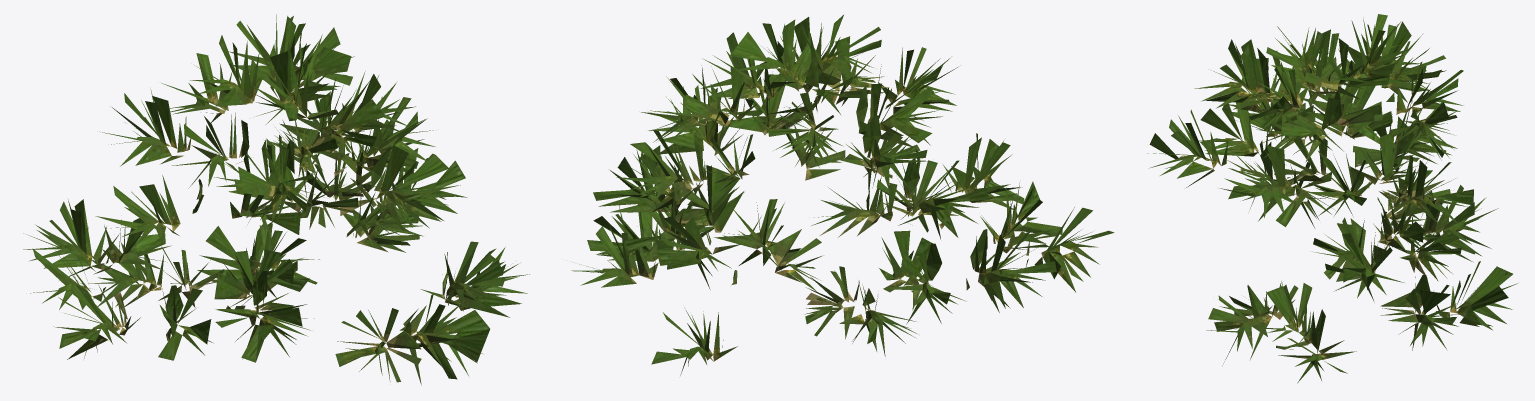
Rendered from leaf_wi.glb.
3 renders of one model, left to right at view 1: azimuth 30°, elevation 25°; view 2: azimuth 150°, elevation 25°; view 3: azimuth 270°, elevation 25°, orthographic. The views are drawn at different scales.
Parts seen in each view (by area): view 1: geometry_0; view 2: geometry_0; view 3: geometry_0.
Part boxes in pixels (bbox=[...]): geometry_0: bbox=[23, 14, 529, 385]; geometry_0: bbox=[571, 15, 1114, 375]; geometry_0: bbox=[1147, 14, 1517, 383].
Bounding box in the file's own units: 0.393 × 0.2366 × 0.2855.
Materials: 1 (1 with a texture image).
